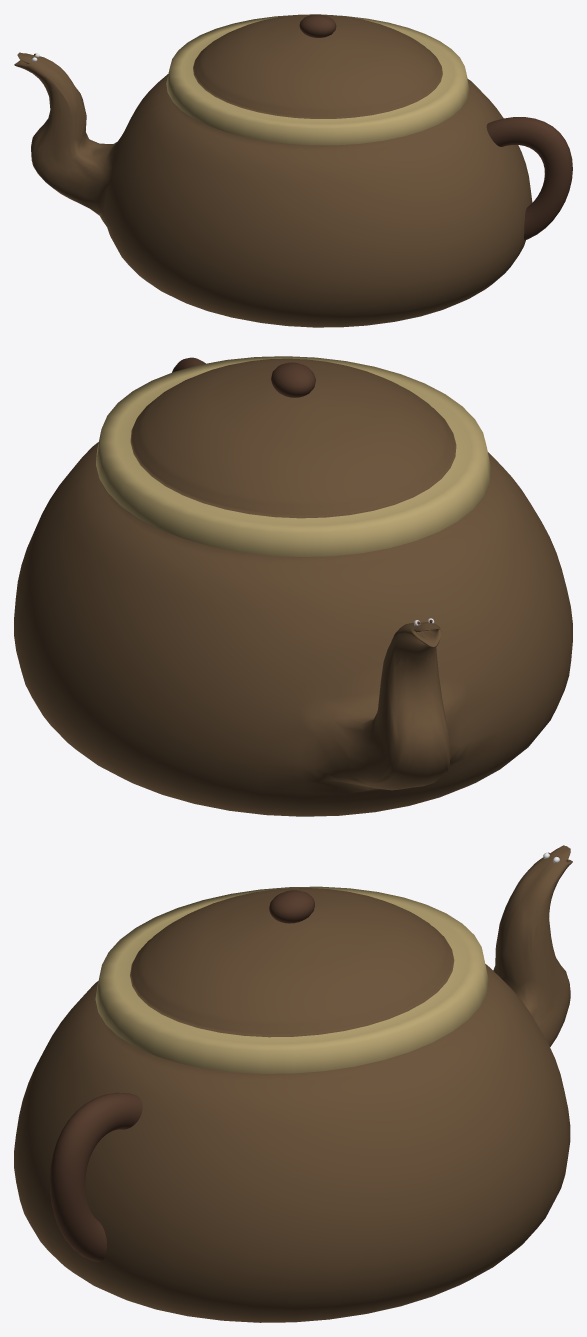
The model's file is Teapot_final.fbx.
3 renders of one model, top to bottom at view 1: azimuth 30°, elevation 25°; view 2: azimuth 150°, elevation 25°; view 3: azimuth 270°, elevation 25°, orthographic. The views are drawn at different scales.
Visible parts, largest first — view 1: Teapot_SNOOTY_BOOP:pSphere1, Teapot_SNOOTY_BOOP:pTorus1, Teapot_SNOOTY_BOOP:pSphere6; view 2: Teapot_SNOOTY_BOOP:pSphere1, Teapot_SNOOTY_BOOP:pSphere6; view 3: Teapot_SNOOTY_BOOP:pSphere1, Teapot_SNOOTY_BOOP:pTorus1, Teapot_SNOOTY_BOOP:pSphere6.
Boxes of the visible parts, box(x1,y1,x2,y2) form: Teapot_SNOOTY_BOOP:pSphere1: box(14, 14, 532, 327); Teapot_SNOOTY_BOOP:pTorus1: box(486, 117, 572, 240); Teapot_SNOOTY_BOOP:pSphere6: box(299, 14, 336, 37); Teapot_SNOOTY_BOOP:pSphere1: box(14, 356, 572, 816); Teapot_SNOOTY_BOOP:pSphere6: box(271, 362, 315, 397); Teapot_SNOOTY_BOOP:pSphere1: box(14, 845, 572, 1322); Teapot_SNOOTY_BOOP:pTorus1: box(49, 1092, 142, 1261); Teapot_SNOOTY_BOOP:pSphere6: box(269, 890, 314, 923).
Bounding box in the file's own units: 0.983 × 0.6291 × 0.9168.
